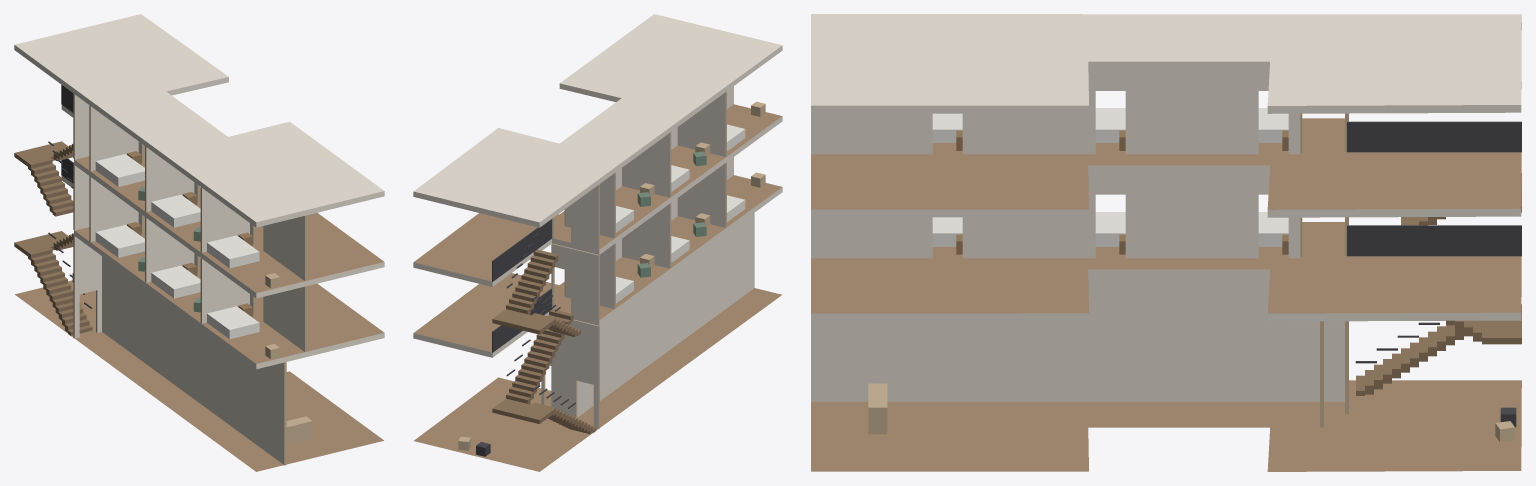
Rendered from interior.glb.
3 views of the same model, side by side, from view 1: azimuth 30°, elevation 25°; view 2: azimuth 150°, elevation 25°; view 3: azimuth 270°, elevation 25° (orthographic). The views are drawn at different scales.
Visible parts, largest first — view 1: slabs, partitions, stair, coarse-s1, coarse-s2, coarse-s0; view 2: slabs, partitions, stair, coarse-s2, coarse-s1; view 3: slabs, partitions, stair, coarse-s1, coarse-s2, coarse-s0.
Boxes of the visible parts, x1,y1,x2,y2 form: slabs: (14, 14, 384, 471); partitions: (73, 93, 307, 465); stair: (14, 85, 92, 335); coarse-s1: (95, 222, 279, 359); coarse-s2: (95, 151, 279, 288); coarse-s0: (72, 273, 312, 445); slabs: (413, 14, 782, 471); partitions: (541, 86, 754, 428); stair: (492, 219, 596, 433); coarse-s2: (616, 101, 765, 232); coarse-s1: (616, 172, 765, 303); slabs: (811, 14, 1521, 471); partitions: (811, 69, 1348, 427); stair: (1347, 121, 1521, 395); coarse-s1: (932, 212, 1288, 254); coarse-s2: (932, 108, 1288, 150); coarse-s0: (868, 383, 1516, 442).
Size of the model in its own units: 6.53 by 12.14 by 21.33.
